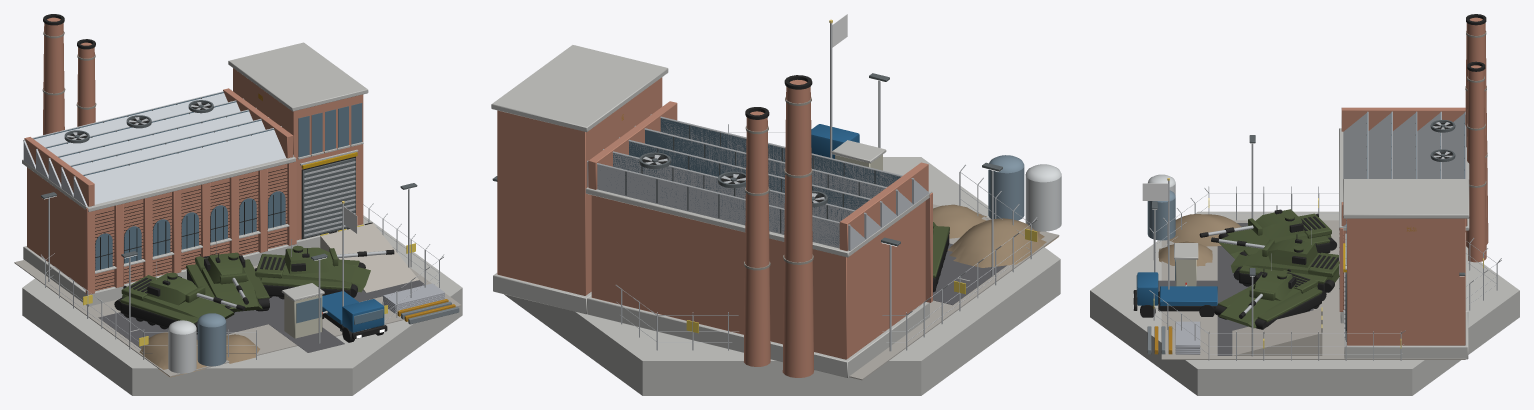
File: tankFactory.glb
The picture shows the model from 3 angles, left to right: view 1: azimuth 30°, elevation 25°; view 2: azimuth 150°, elevation 25°; view 3: azimuth 270°, elevation 25°; orthographic projection. The views are drawn at different scales.
Visible parts, largest first — view 1: wall_concrete, brick, cladding, paint, glass, metal, dark, steel_dark, asphalt, gravel, earth; view 2: brick, wall_concrete, cladding, glass, paint, metal, earth, gravel, steel_dark, asphalt, dark; view 3: wall_concrete, brick, paint, cladding, metal, gravel, dark, earth, asphalt, steel_dark, banner, glass.
Part boxes in pixels (x1,y1,x2,y2): wall_concrete: (22,31,462,395); brick: (24,17,363,294); cladding: (23,93,322,338); paint: (120,93,459,373); glass: (33,92,383,324); metal: (23,89,444,359); dark: (43,14,394,342); steel_dark: (41,97,417,331); asphalt: (98,280,424,352); gravel: (14,260,461,376); earth: (139,332,259,377); brick: (497,77,932,377); wall_concrete: (491,45,1060,395); cladding: (587,119,929,250); glass: (613,118,900,247); paint: (621,114,1061,277); metal: (587,23,1037,351); earth: (933,204,1058,267); gravel: (849,204,1059,380); steel_dark: (492,73,1002,246); asphalt: (933,243,1006,305); dark: (642,75,949,292); wall_concrete: (1090,31,1519,395); brick: (1339,17,1488,345); paint: (1137,174,1416,354); cladding: (1175,113,1464,286); metal: (1149,111,1501,360); gravel: (1161,220,1465,359); dark: (1133,14,1486,341); earth: (1158,214,1241,266); asphalt: (1158,223,1313,355); steel_dark: (1151,119,1465,339); banner: (1142,183,1168,200); glass: (1136,112,1464,296).
Size of the model in its own units: 21.3 by 15.85 by 24.6.
